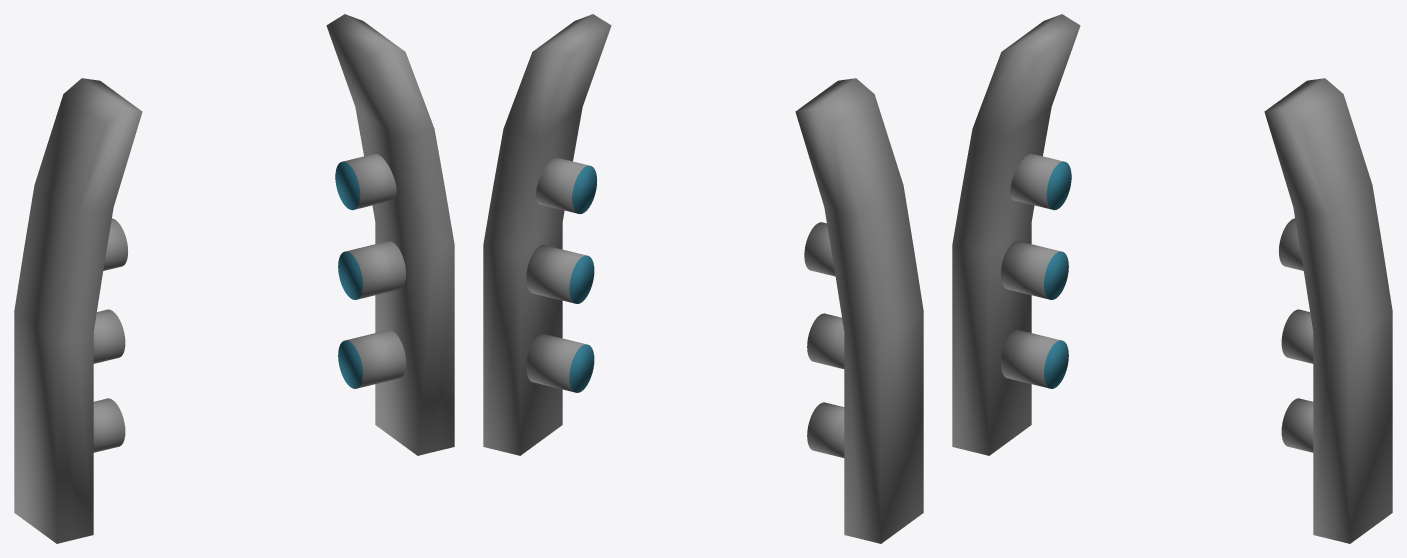
Rendered from aita.fbx.
The picture shows the model from 3 angles, left to right: view 1: azimuth 30°, elevation 25°; view 2: azimuth 150°, elevation 25°; view 3: azimuth 330°, elevation 25°; orthographic projection.
Visible parts, largest first — view 1: Cube; view 2: Cube; view 3: Cube.
Part boxes in pixels (x1,y1,x2,y2): Cube: (14,14,454,543); Cube: (483,14,923,543); Cube: (952,14,1392,543).
Bounding box in the file's own units: 854 × 859 × 158.
1 material, 1 textured.
